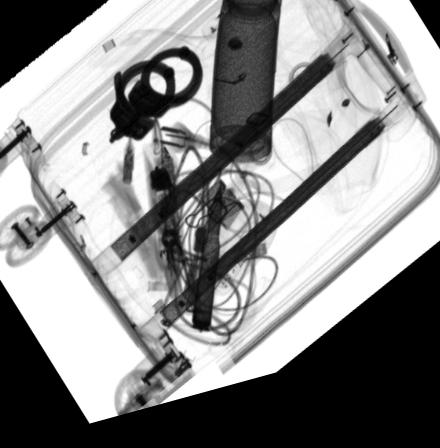Bullet: (192, 196, 221, 343)
HandCuffs: (107, 53, 205, 154)
